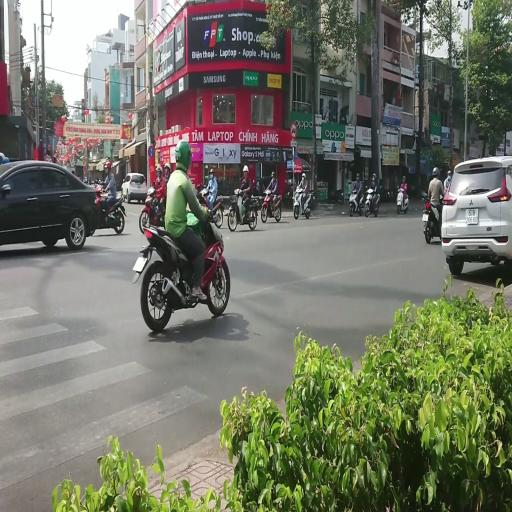bikes: (132, 210, 230, 332), (91, 179, 126, 234), (139, 186, 166, 235), (195, 183, 224, 228), (228, 189, 258, 231), (421, 192, 443, 243), (260, 186, 282, 222), (293, 187, 314, 219), (364, 186, 380, 217), (349, 186, 364, 216), (396, 185, 408, 214), (329, 188, 345, 204)
helmet: (174, 140, 192, 170), (149, 207, 161, 226), (164, 163, 170, 180), (207, 195, 214, 207), (432, 166, 439, 176), (104, 161, 111, 170), (209, 168, 214, 179), (242, 165, 248, 173), (156, 165, 162, 173), (164, 163, 170, 171), (96, 186, 102, 194), (200, 188, 206, 196), (148, 187, 154, 195), (444, 178, 449, 187), (301, 172, 306, 179), (370, 181, 375, 188), (372, 173, 376, 180), (209, 168, 214, 173), (356, 172, 360, 178), (402, 176, 406, 182), (271, 171, 275, 177), (288, 179, 292, 185), (447, 170, 451, 175), (94, 180, 99, 184)
